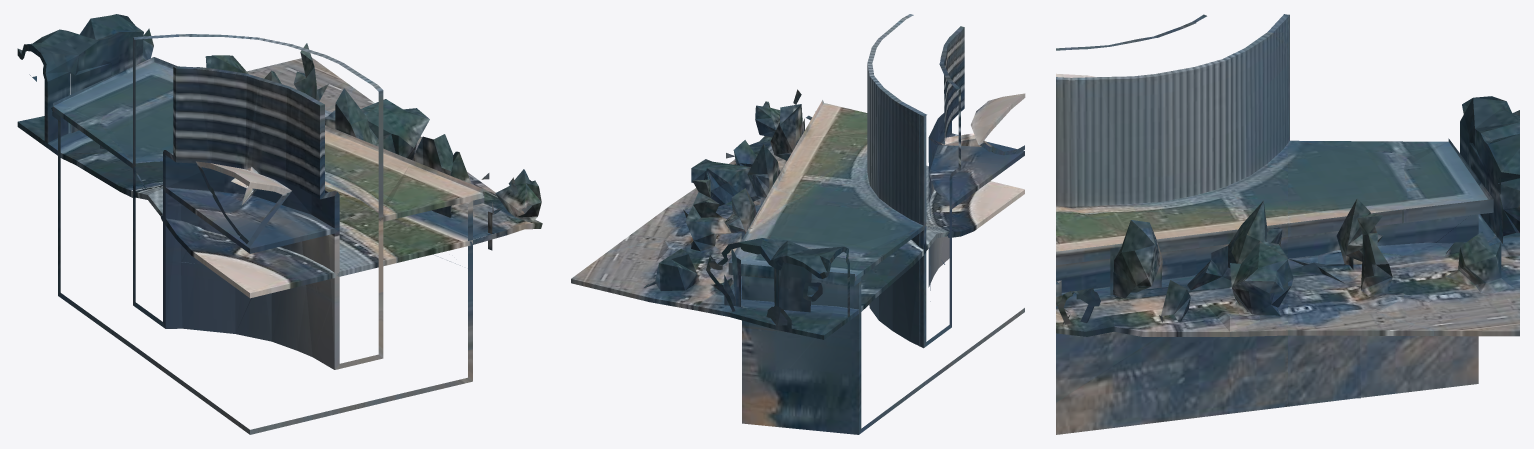
The model's file is chunk_-6_5.glb.
3 renders of one model, left to right at view 1: azimuth 30°, elevation 25°; view 2: azimuth 150°, elevation 25°; view 3: azimuth 270°, elevation 25°, orthographic. The views are drawn at different scales.
Parts seen in each view (by area): view 1: hero-chunk; view 2: hero-chunk; view 3: hero-chunk.
Part boxes in pixels (x1=…): hero-chunk: x1=17, y1=14, x2=542, y2=434; hero-chunk: x1=571, y1=14, x2=1025, y2=434; hero-chunk: x1=1056, y1=14, x2=1519, y2=434.
Bounding box in the file's own units: 56.04 × 56.91 × 76.32.
2 materials, 2 textured.
